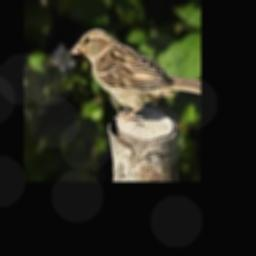Sparrow: (70, 28, 201, 119)
